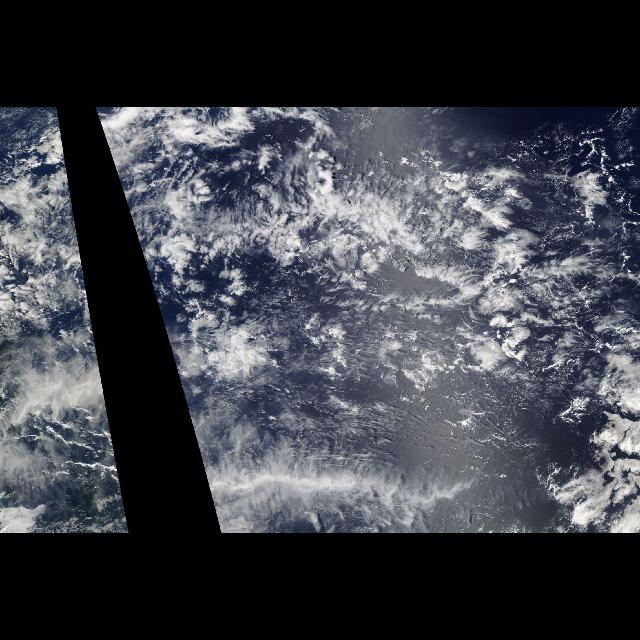Fish: (193, 436, 557, 526), (34, 436, 130, 526)
Flower: (100, 127, 560, 407), (3, 127, 106, 407)
Gravel: (108, 146, 556, 400), (24, 146, 106, 400)
